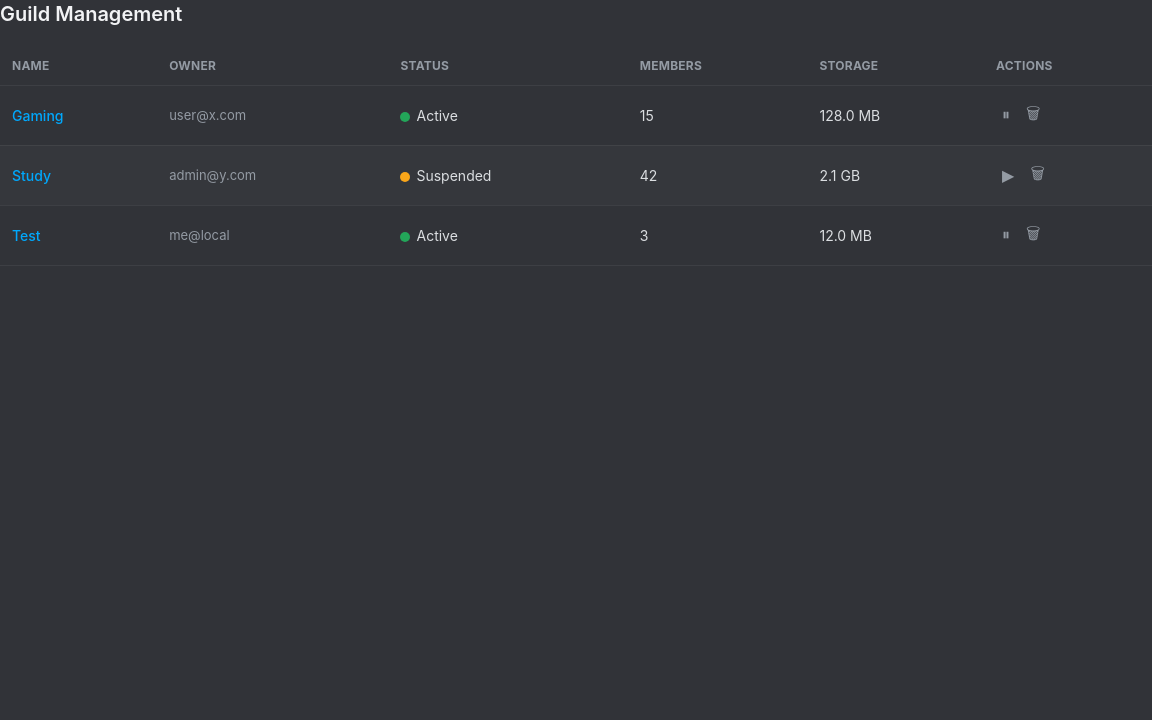
P14 — Node Admin Panel › delete button stays disabled with wrong name
Click the button with test id "delete-g1" at coordinates (1033, 115), box [1020,98,1046,133]
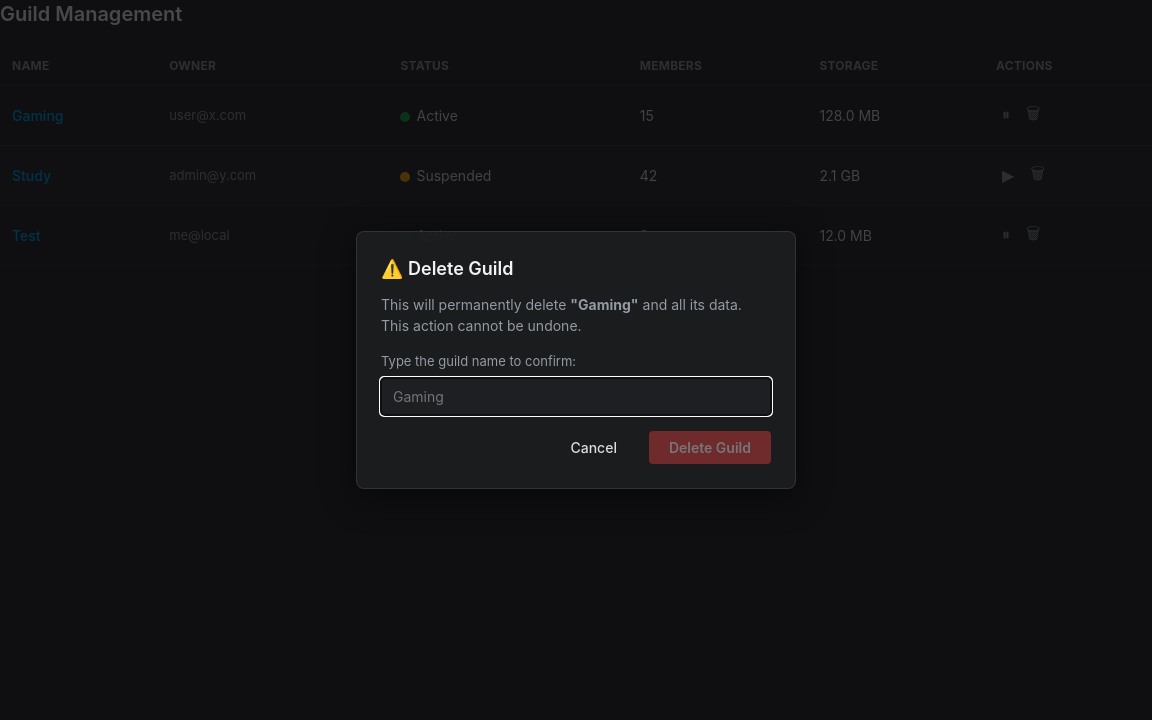
Now the button with test id "delete-confirm-btn" is disabled, box [649,431,771,464]
# Type wrong name
Type "WrongName" into the field with test id "delete-confirm-input" at coordinates (576, 396), box [381,378,771,415]
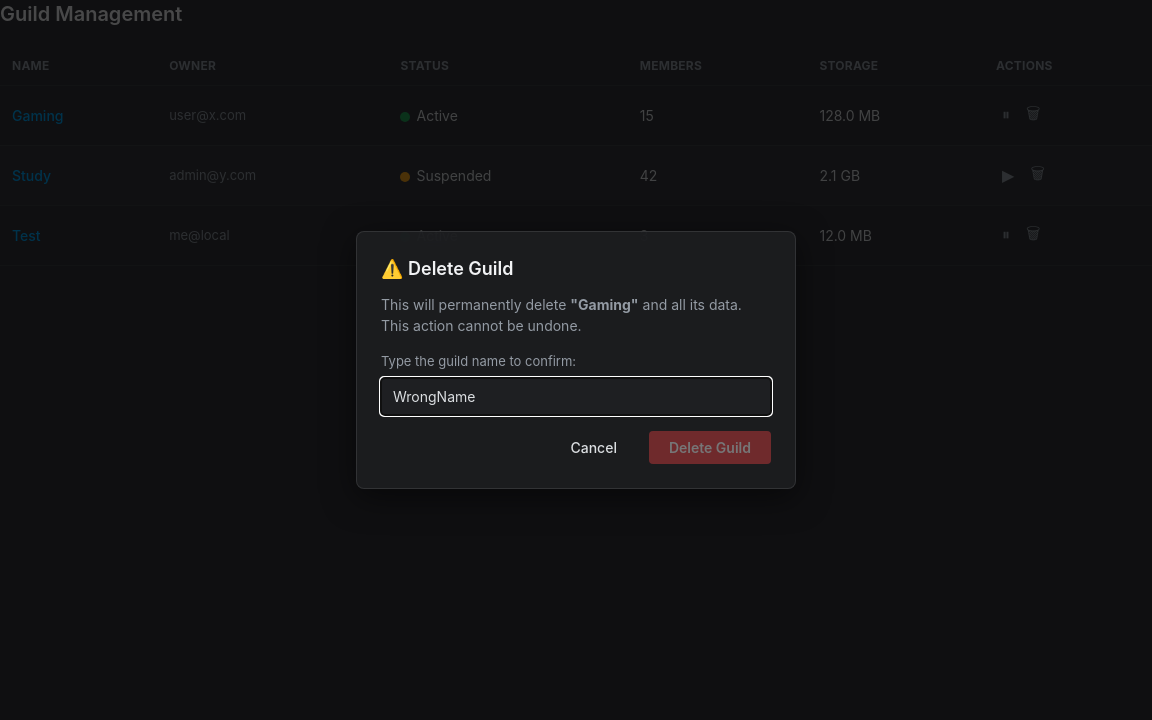
Now the button with test id "delete-confirm-btn" is disabled, box [649,431,771,464]
# Cancel closes dialog
Click the button with test id "delete-cancel-btn" at coordinates (594, 447), box [550,431,637,464]
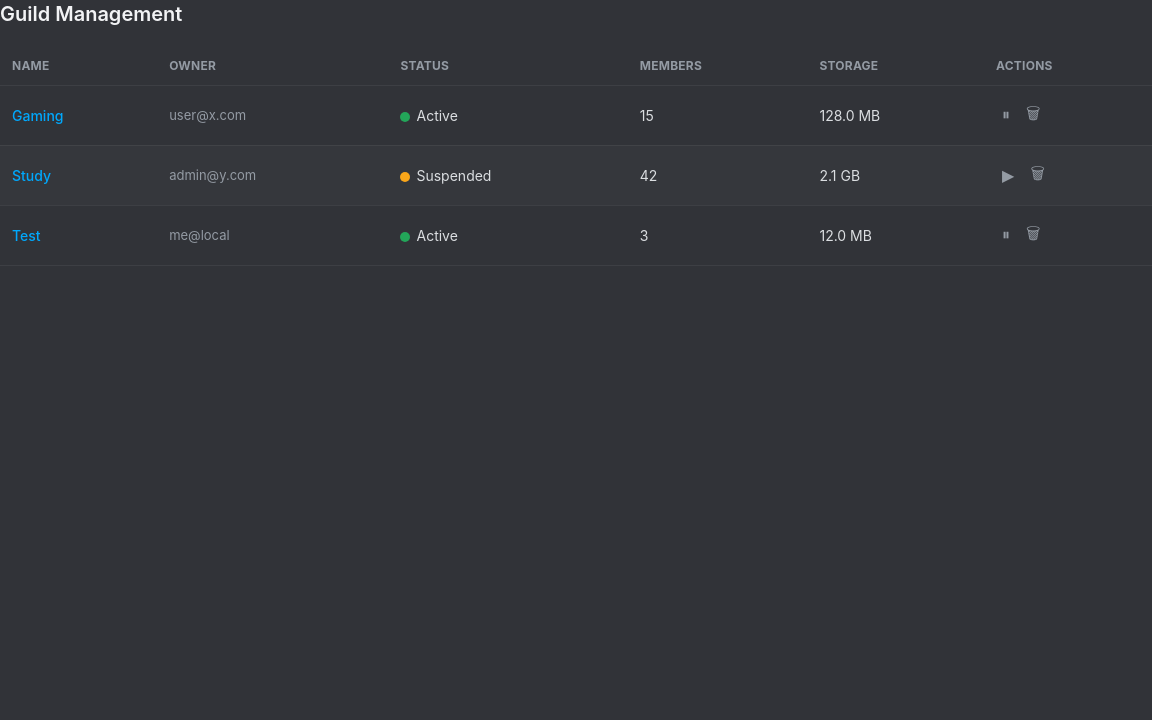
Now the element with test id "delete-confirm-dialog" is gone
